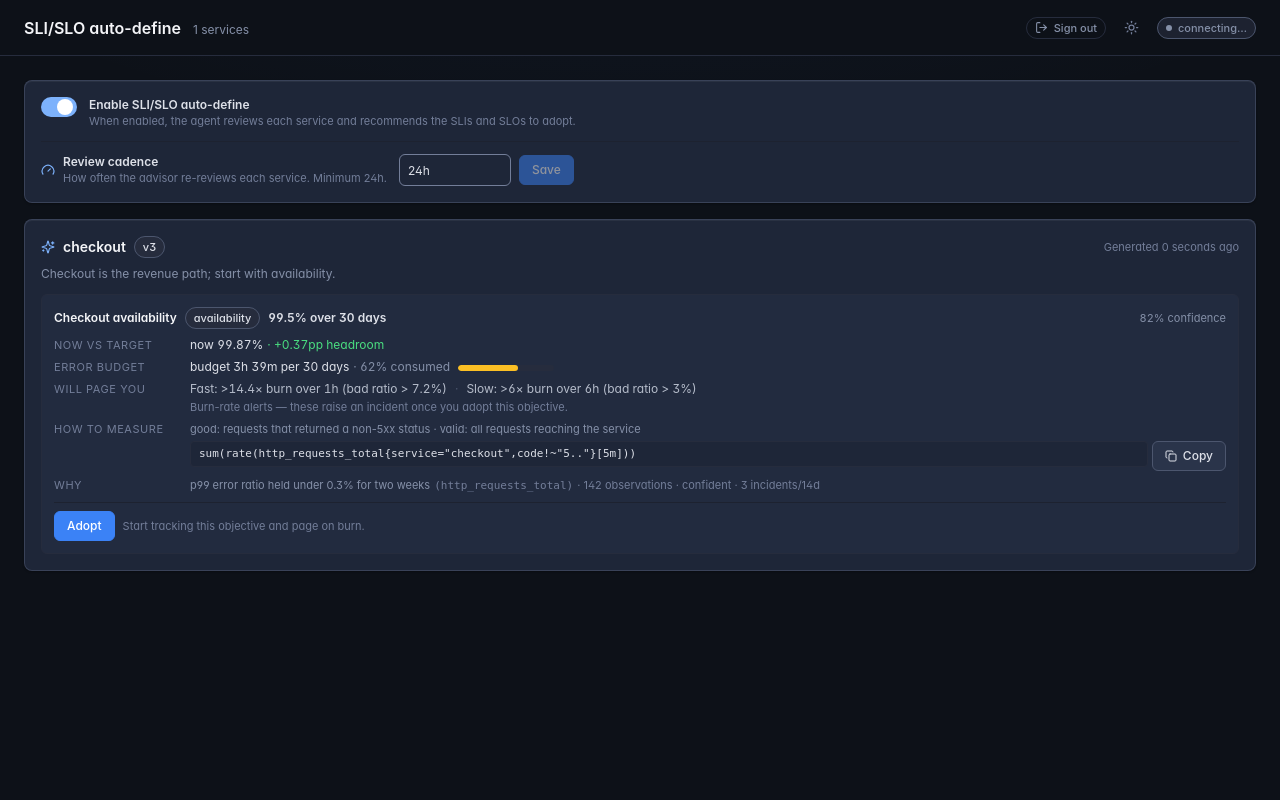
Scenario: SLORecommendationsPage — cadence control › submits the operator's raw Go duration, not the formatted display
Expected: the element with test id "slo-cadence-control" is shown, [24,80,1256,203]
Step 1. Type "48h" into the field named "Cadence" → (455,170), box [399,154,511,186]
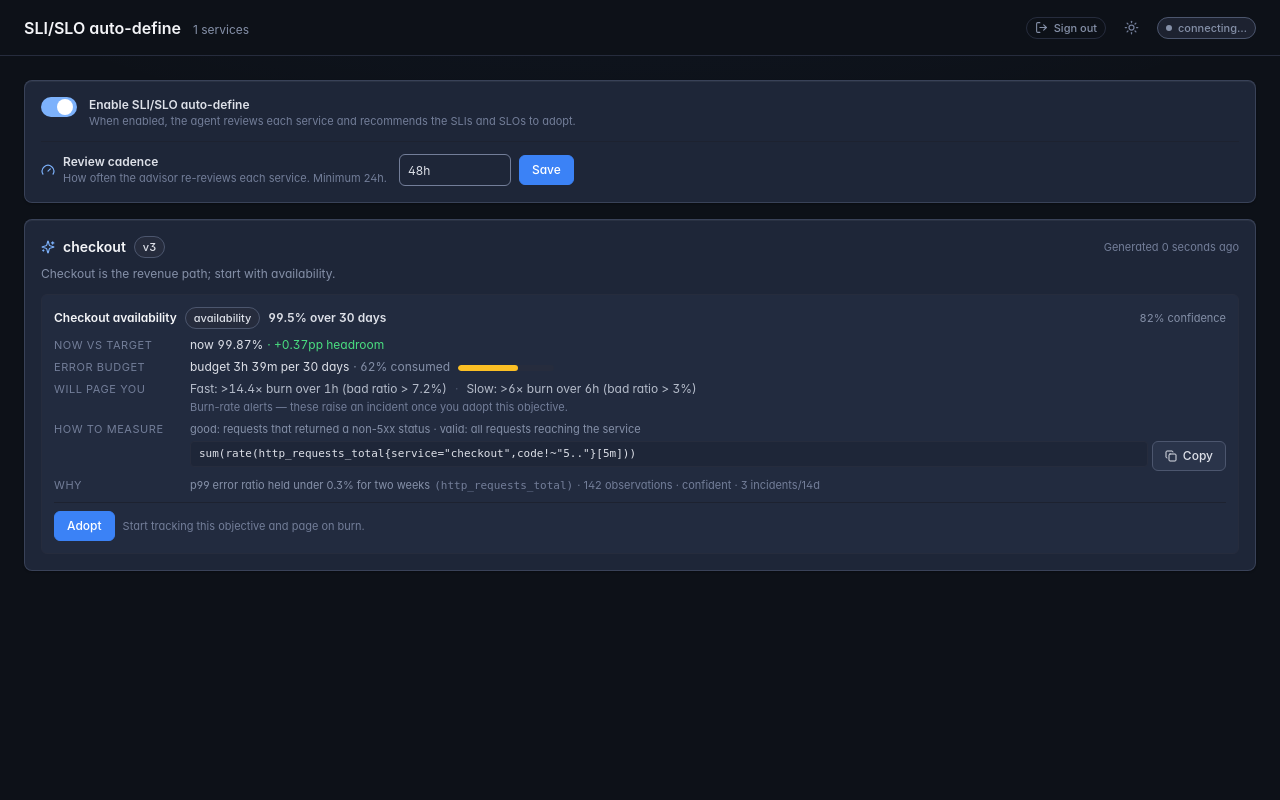
Expected: the button "Save" is enabled
Step 2. Click the button "Save" → (546,170), box [519,155,574,185]
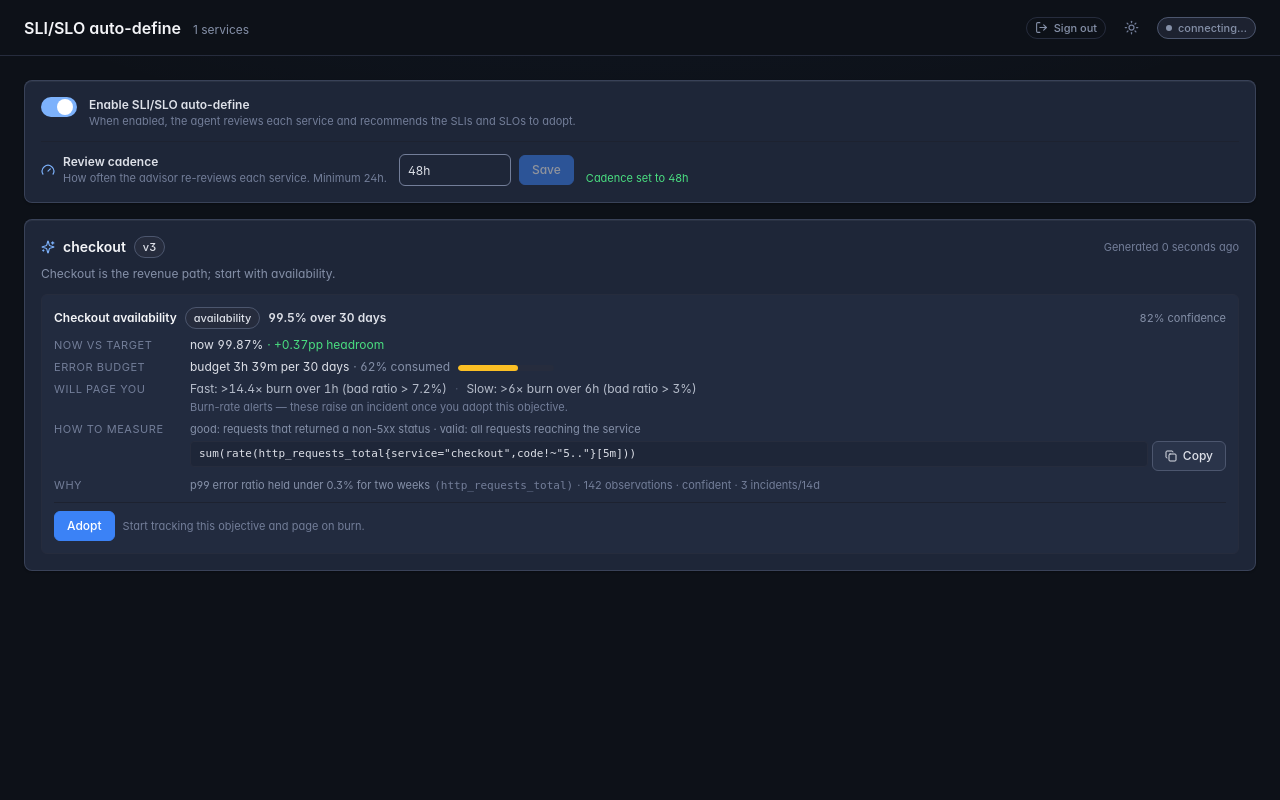
Expected: the text "Cadence set to 48h" is shown, [586,170,688,186]
